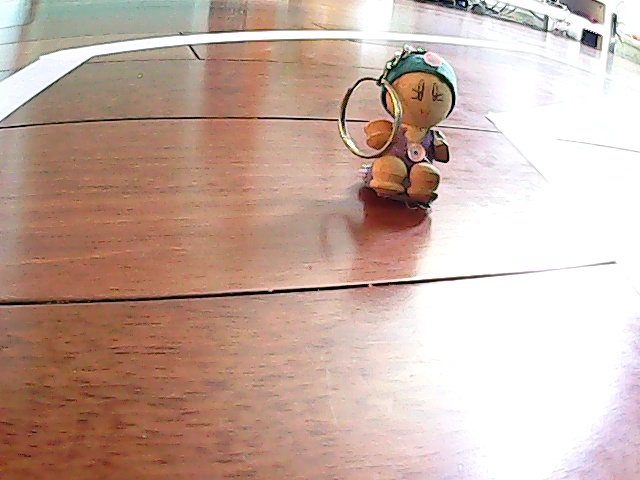pedestrain: (347, 40, 465, 232)
